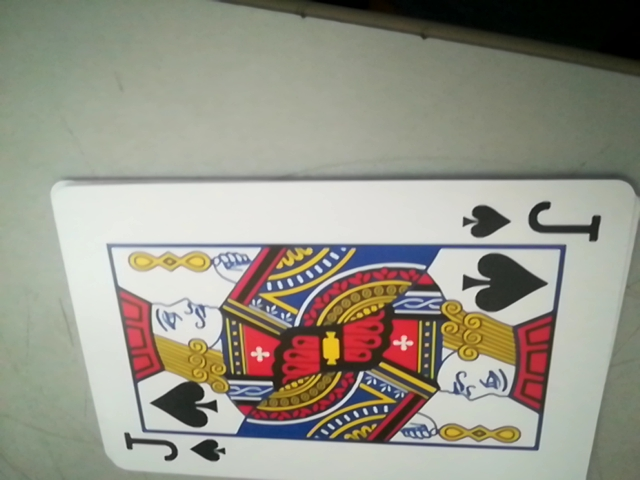ht j: (459, 196, 603, 245), (112, 427, 232, 472)
